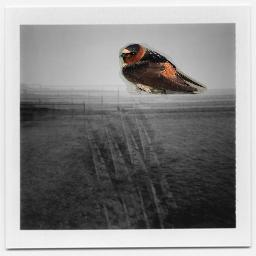Swallow: (119, 43, 207, 95)
